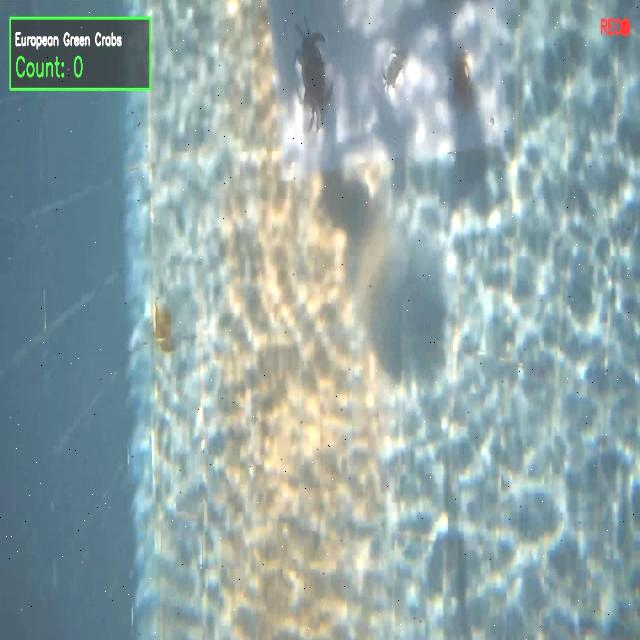European_Green_Crab: (284, 10, 344, 141), (378, 39, 411, 96)
